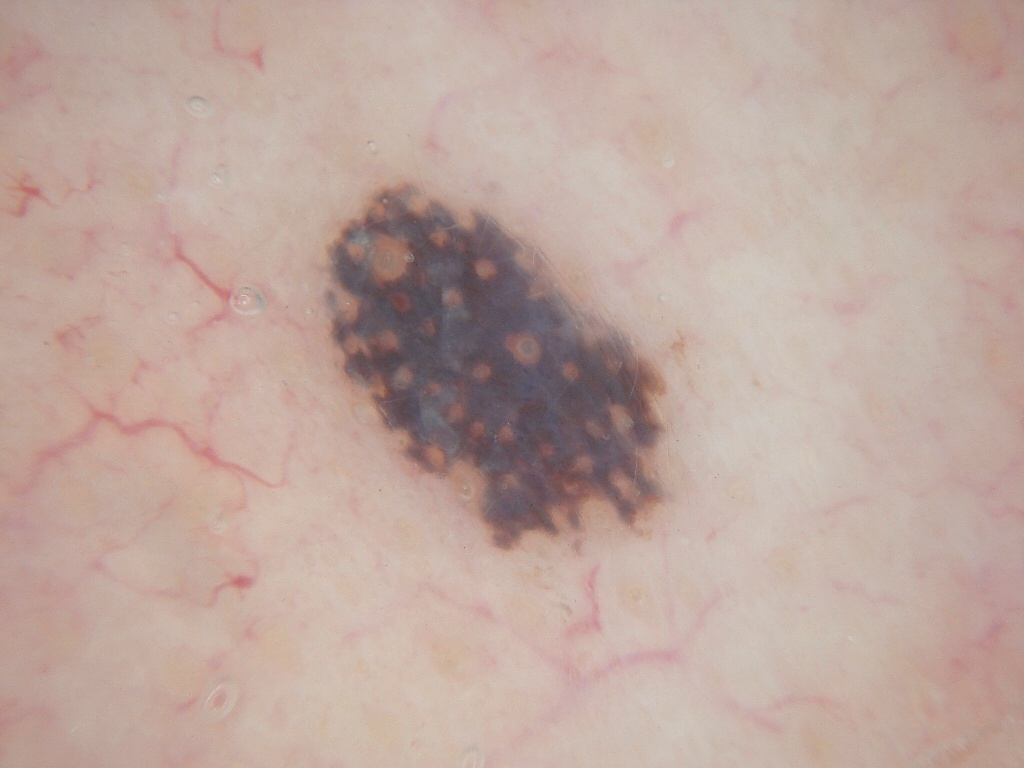Detected Lesion: (309, 174, 687, 563)
